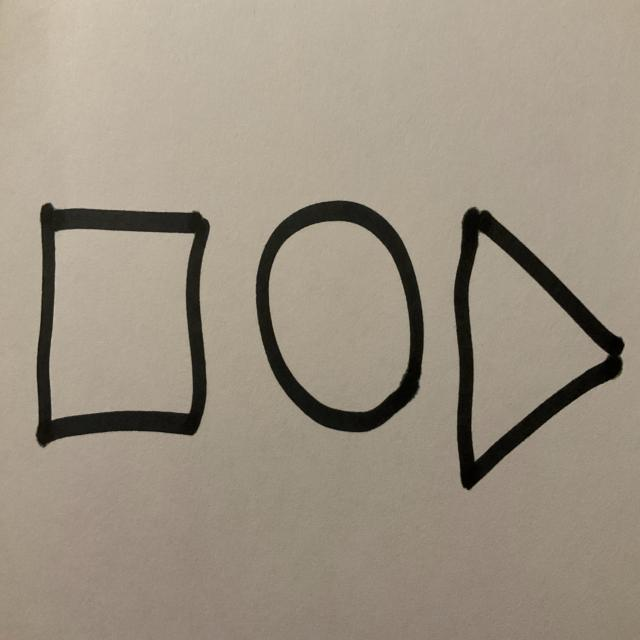Dreieck: (453, 207, 626, 492)
Kreis: (255, 200, 426, 436)
Quadrat: (35, 205, 211, 450)
